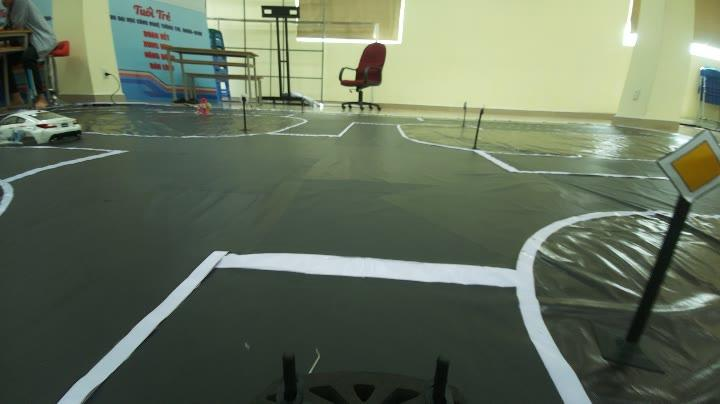priority: (650, 126, 720, 205)
